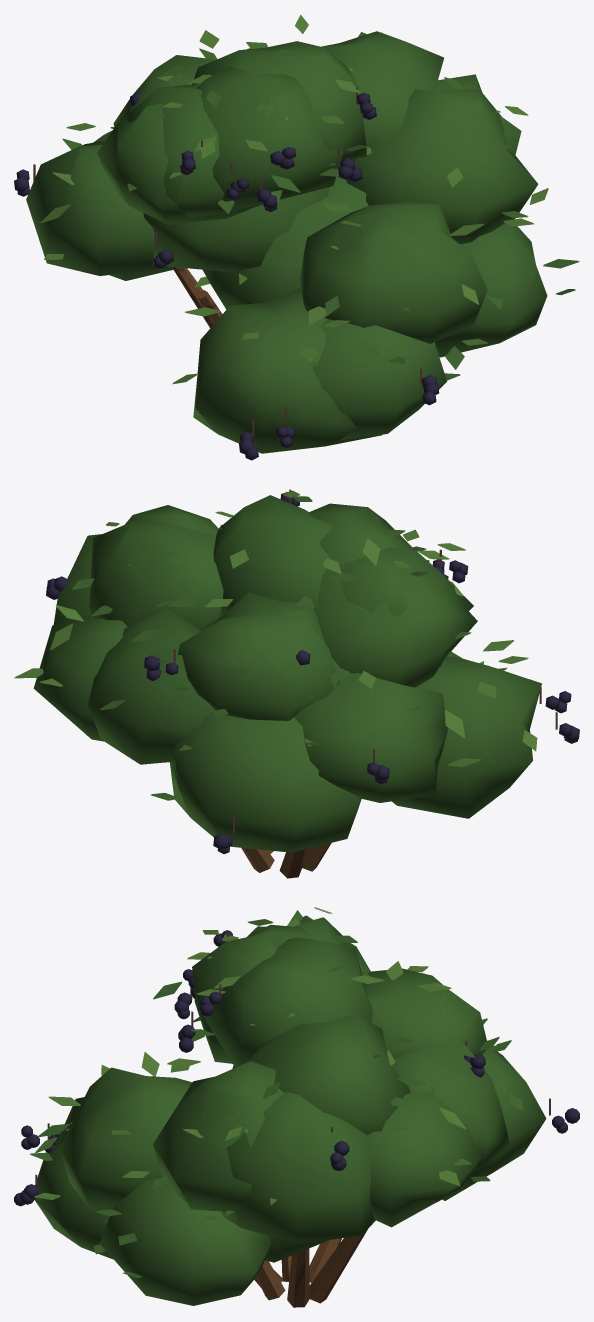
Rendered from berry_bush_big.glb.
3 views of the same model, one above another, from view 1: azimuth 30°, elevation 25°; view 2: azimuth 150°, elevation 25°; view 3: azimuth 270°, elevation 25° (orthographic). The views are drawn at different scales.
Visible parts, largest first — view 1: berry_bush_big; view 2: berry_bush_big; view 3: berry_bush_big.
Part boxes in pixels (<box>): berry_bush_big: <box>14,14,579,460</box>; berry_bush_big: <box>14,489,579,878</box>; berry_bush_big: <box>14,907,579,1307</box>.
Bounding box in the file's own units: 2.23 × 1.72 × 2.5.
Materials: 5 (5 with a texture image).
